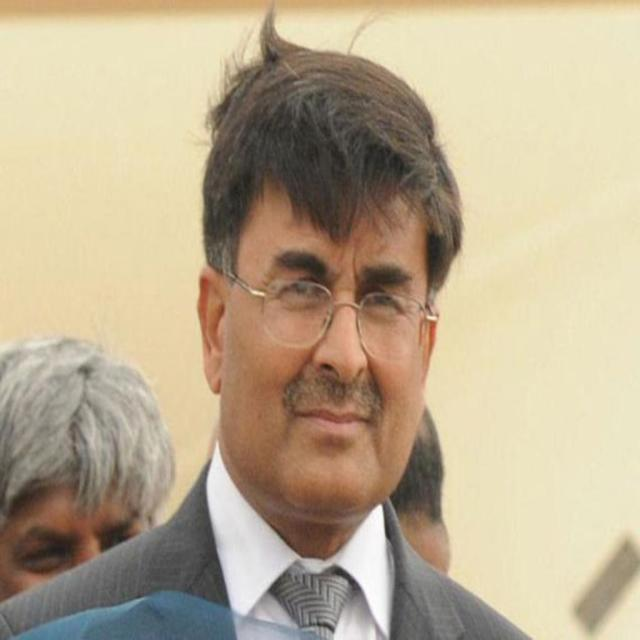Face: (190, 164, 447, 507)
